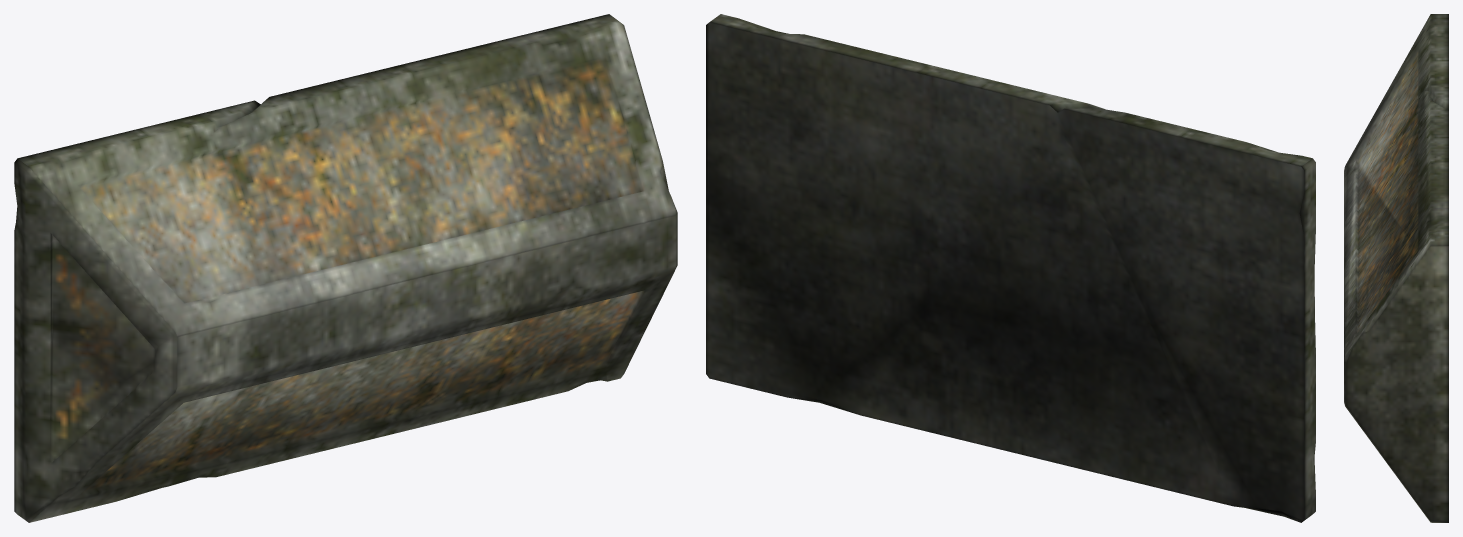
The model's file is tdr_d_tomb_cover.obj.
The picture shows the model from 3 angles, left to right: view 1: azimuth 30°, elevation 25°; view 2: azimuth 150°, elevation 25°; view 3: azimuth 270°, elevation 25°; orthographic projection. The views are drawn at different scales.
Parts seen in each view (by area): view 1: tdr_d_tomb_cover; view 2: tdr_d_tomb_cover; view 3: tdr_d_tomb_cover.
Part boxes in pixels (x1,y1,x2,y2): tdr_d_tomb_cover: (14,14,677,522); tdr_d_tomb_cover: (706,14,1315,522); tdr_d_tomb_cover: (1344,14,1448,522).
Bounding box in the file's own units: 1198 × 682 × 230.
Materials: 1 (1 with a texture image).
